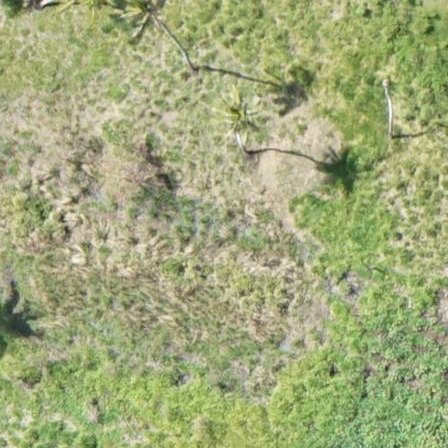palm_tree: (211, 87, 262, 138)
